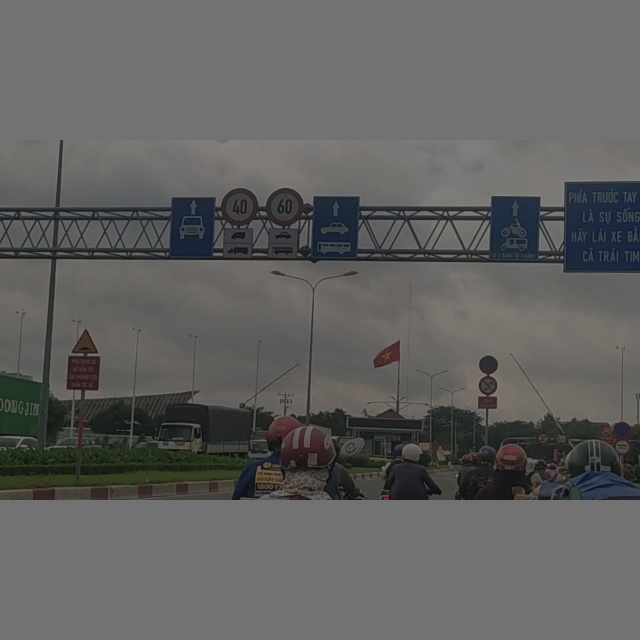P.107: (555, 433, 569, 445), (537, 432, 549, 444)
P.111: (478, 377, 497, 395)
P.127*40: (222, 188, 258, 227)
P.127*60: (267, 188, 304, 226)
P.129: (613, 439, 631, 455)
P.130: (479, 355, 499, 375)
P.131a: (613, 422, 631, 439)
W.221b: (71, 329, 99, 354), (601, 425, 613, 435)
